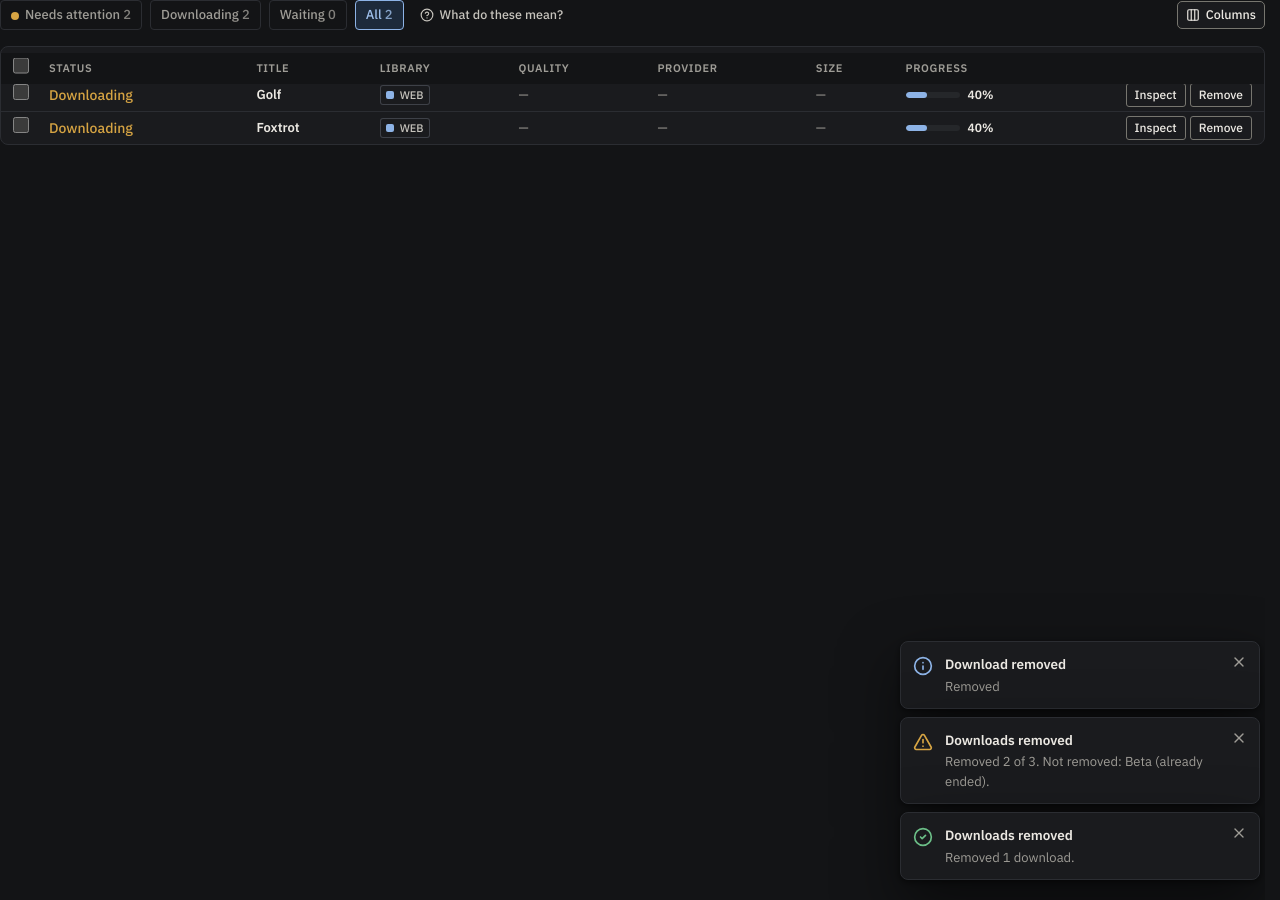
Test: keeps the bulk result in a toast when the removal empties the list, with the server's reason once when no search started
Click the checkbox named "Select all 2 shown" at {"x": 21, "y": 66}, box [13,58,29,74]
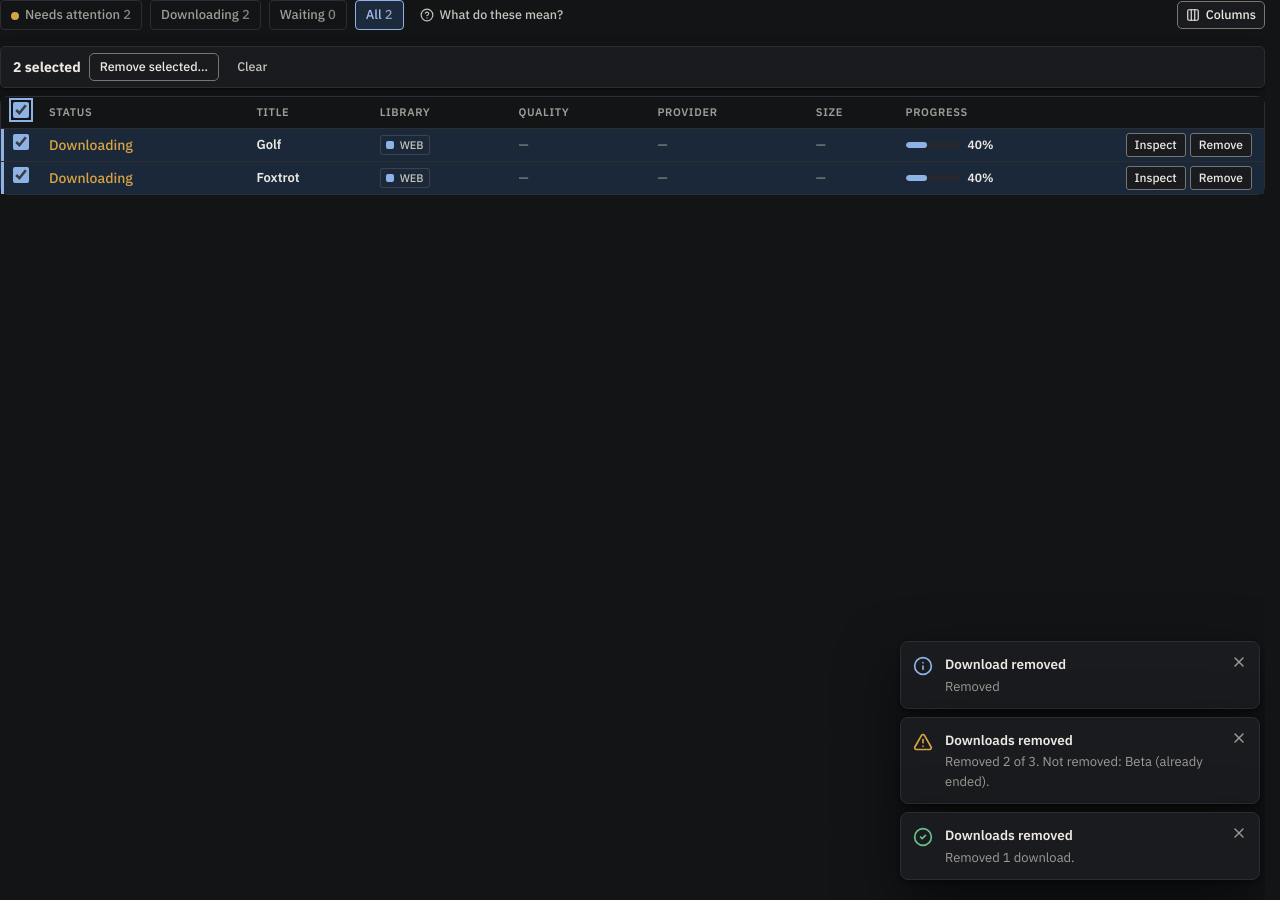
Click the button "Remove selected…" at {"x": 154, "y": 66}, box [89,52,219,80]
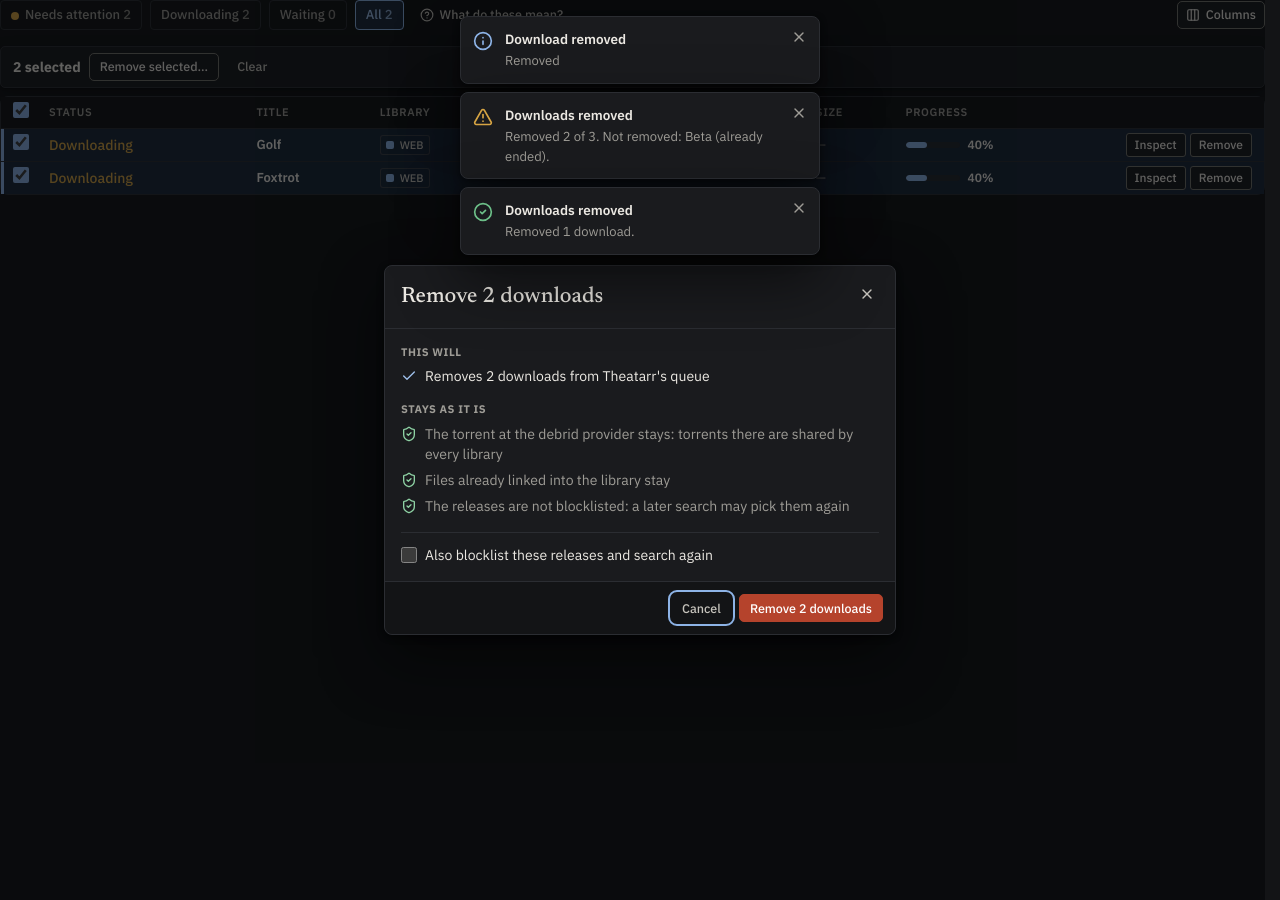
Click the checkbox labelled "Also blocklist these releases and search again" at {"x": 409, "y": 555}, box [401,547,417,563]
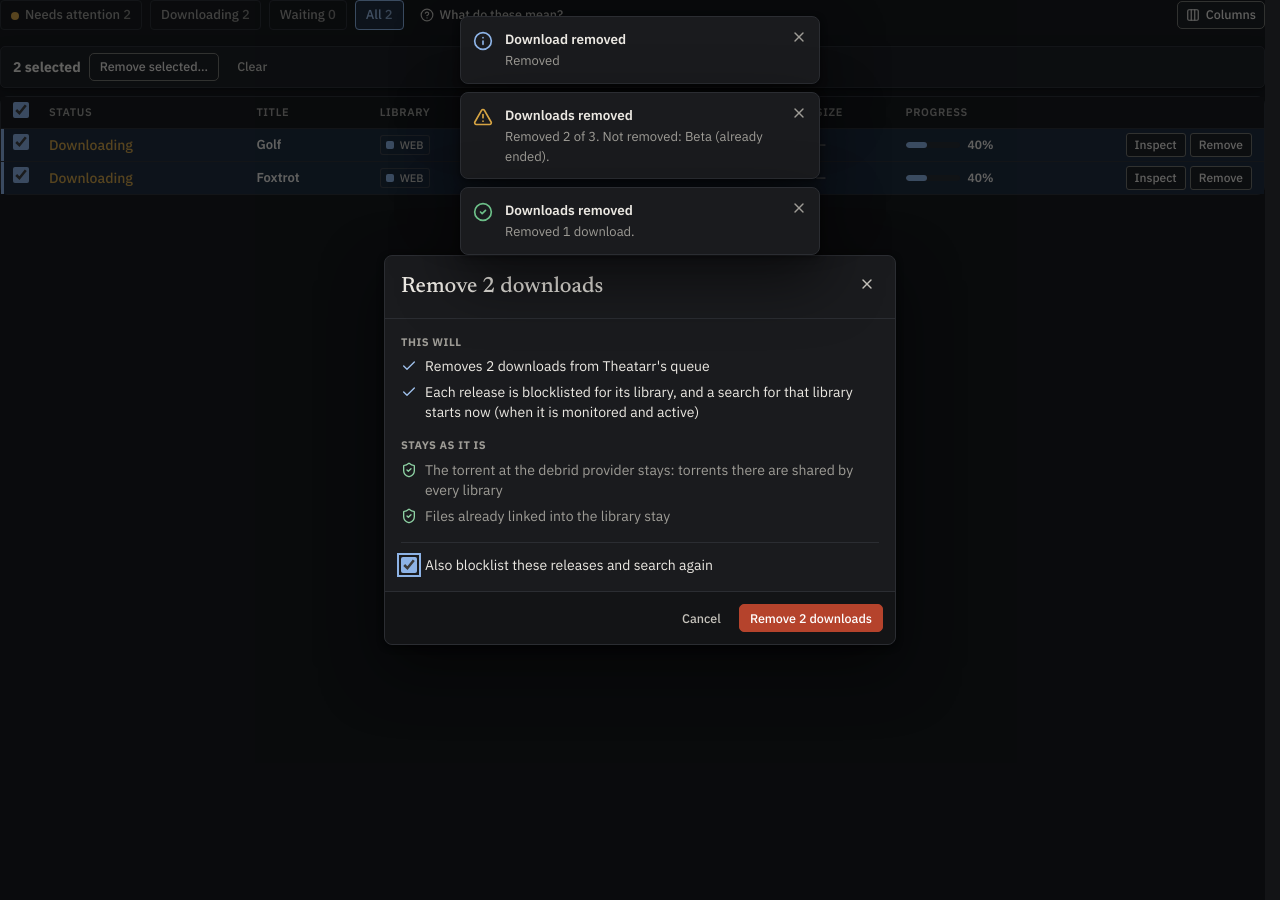
Click the button "Remove 2 downloads" at {"x": 811, "y": 618}, box [739,604,883,632]
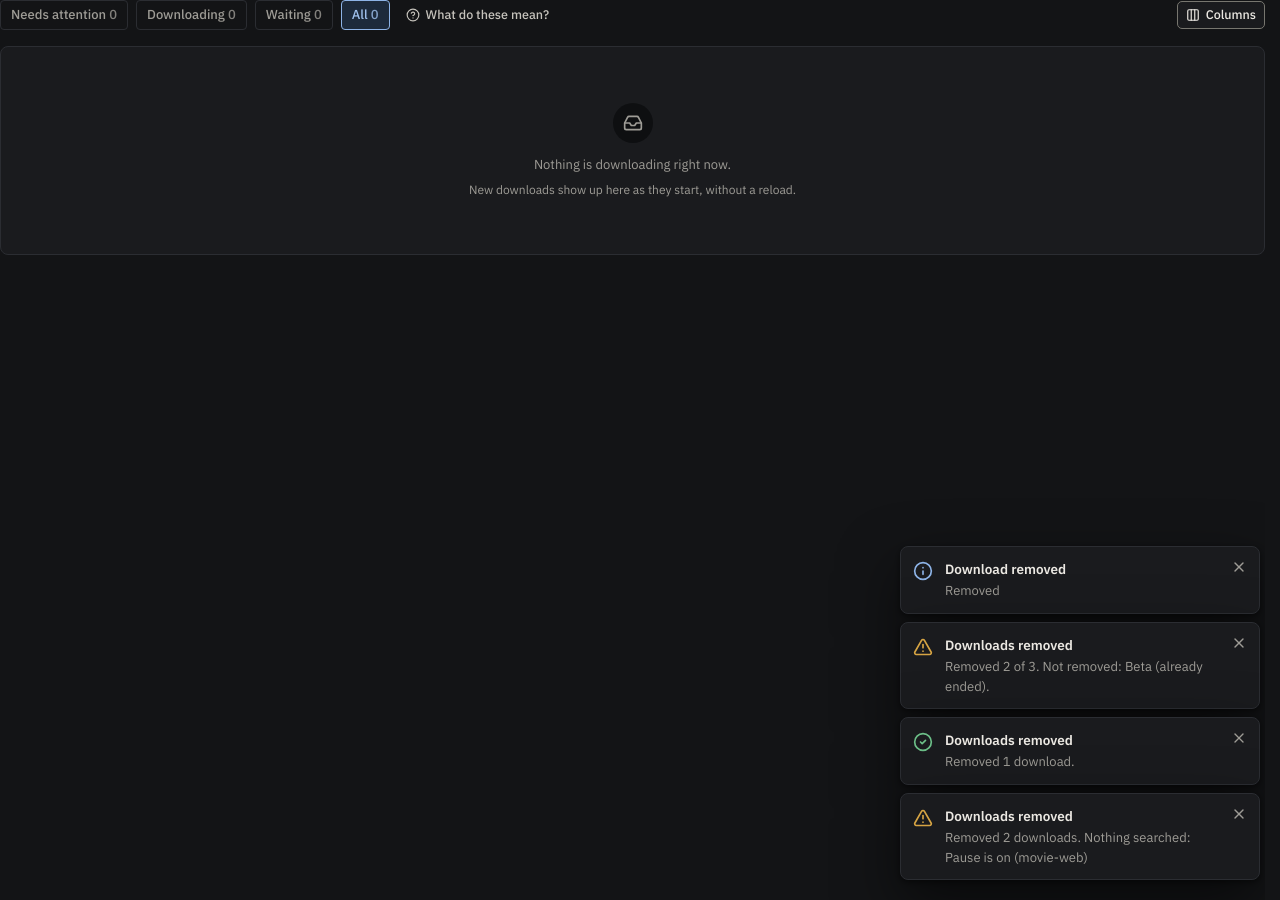
Check: the text "Removed 2 downloads. Nothing searched: Pause is on (movie-web)" is shown, box [945,828,1219,867]
Check: the text "Nothing is downloading right now." is shown, box [534,154,731,174]
